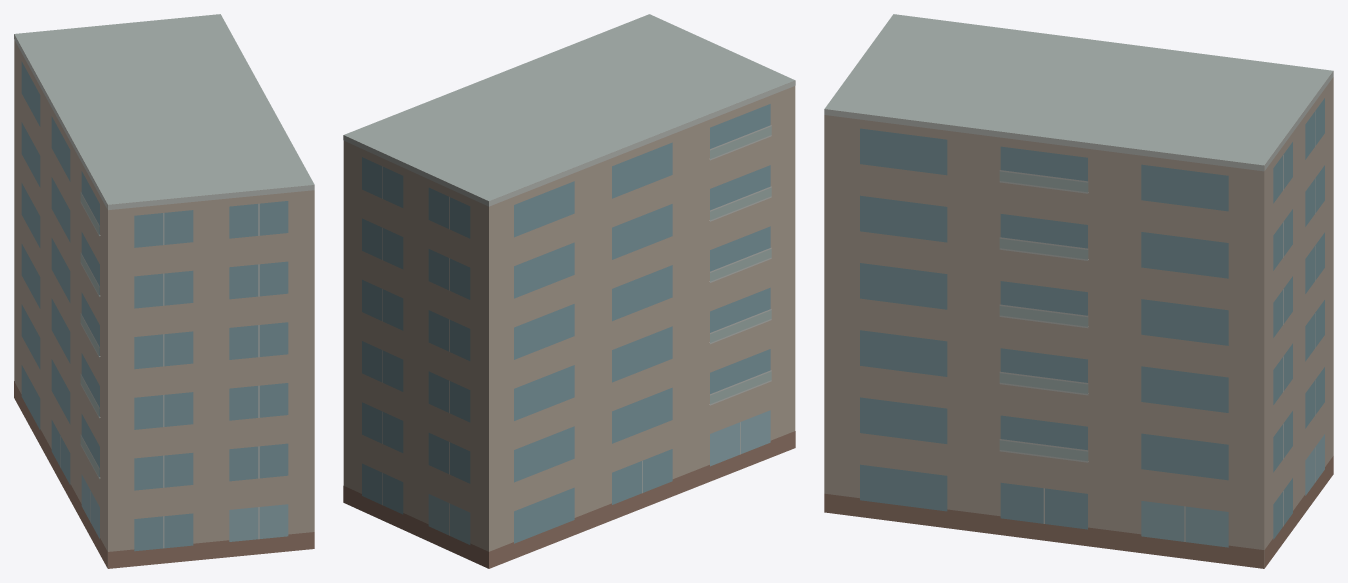
Rendered from survey-upis-32873728.glb.
The picture shows the model from 3 angles, left to right: view 1: azimuth 30°, elevation 25°; view 2: azimuth 150°, elevation 25°; view 3: azimuth 270°, elevation 25°; orthographic projection. The views are drawn at different scales.
Parts seen in each view (by area): view 1: survey-upis-32873728.tmp; view 2: survey-upis-32873728.tmp; view 3: survey-upis-32873728.tmp.
Boxes of the visible parts, x1,y1,x2,y2 form: survey-upis-32873728.tmp: [14, 14, 314, 568]; survey-upis-32873728.tmp: [343, 14, 795, 568]; survey-upis-32873728.tmp: [824, 14, 1333, 568].
Size of the model in its own units: 13.38 by 16.6 by 19.
